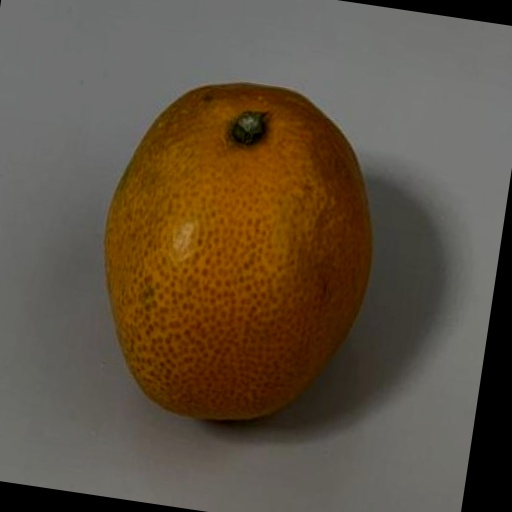fruit: (105, 84, 371, 419)
